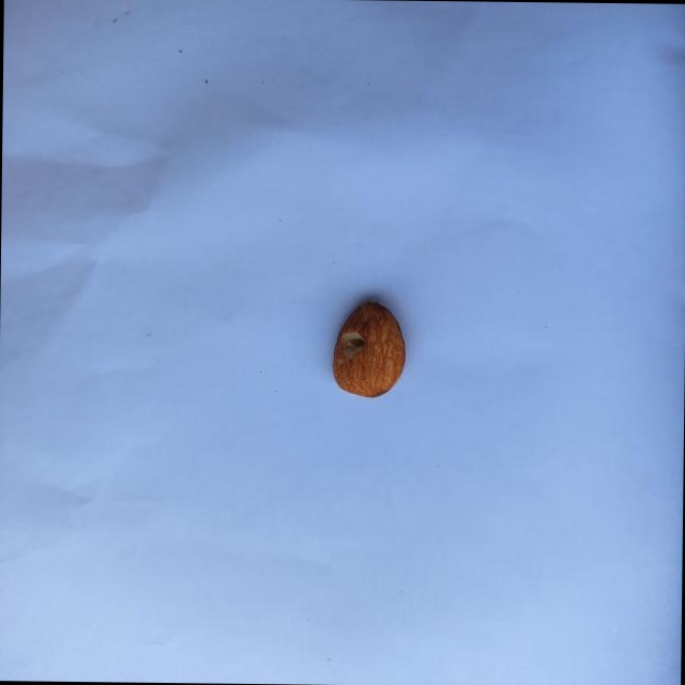grade3: (327, 296, 408, 402)
